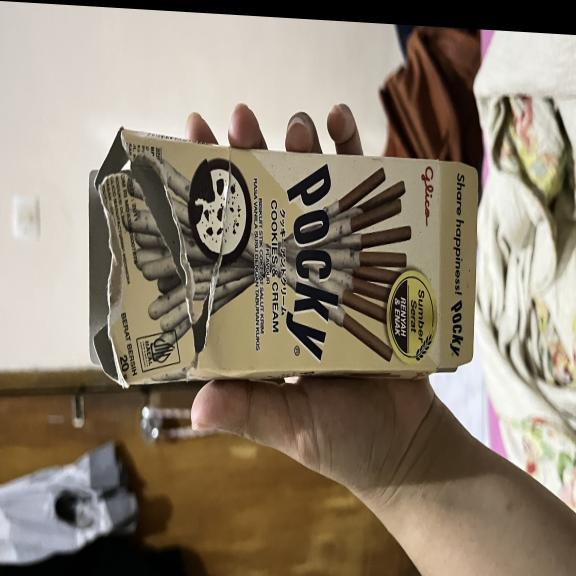Kertas: (107, 129, 440, 389)
